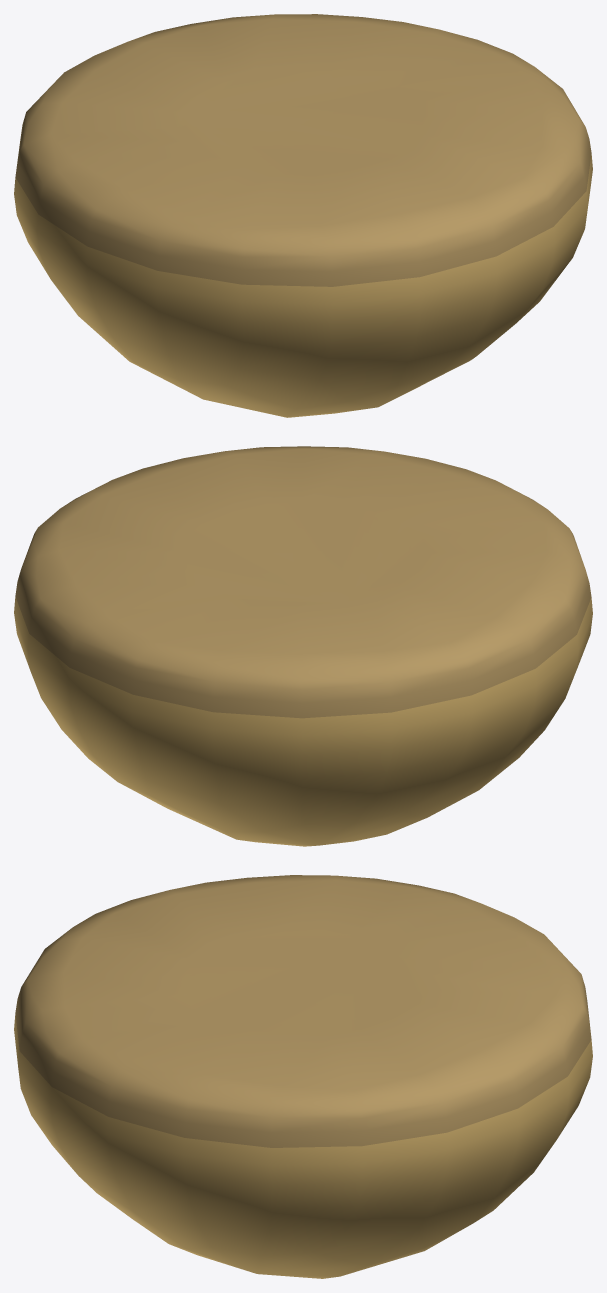
File: SB_Island_01.fbx
The picture shows the model from 3 angles, top to bottom: view 1: azimuth 30°, elevation 25°; view 2: azimuth 150°, elevation 25°; view 3: azimuth 270°, elevation 25°; orthographic projection.
Parts seen in each view (by area): view 1: SB_Island_01; view 2: SB_Island_01; view 3: SB_Island_01.
Boxes of the visible parts, x1,y1,x2,y2 form: SB_Island_01: (14, 14, 592, 417); SB_Island_01: (14, 446, 592, 846); SB_Island_01: (14, 875, 592, 1278).
Bounding box in the file's own units: 17.64 × 9.2 × 17.63.
